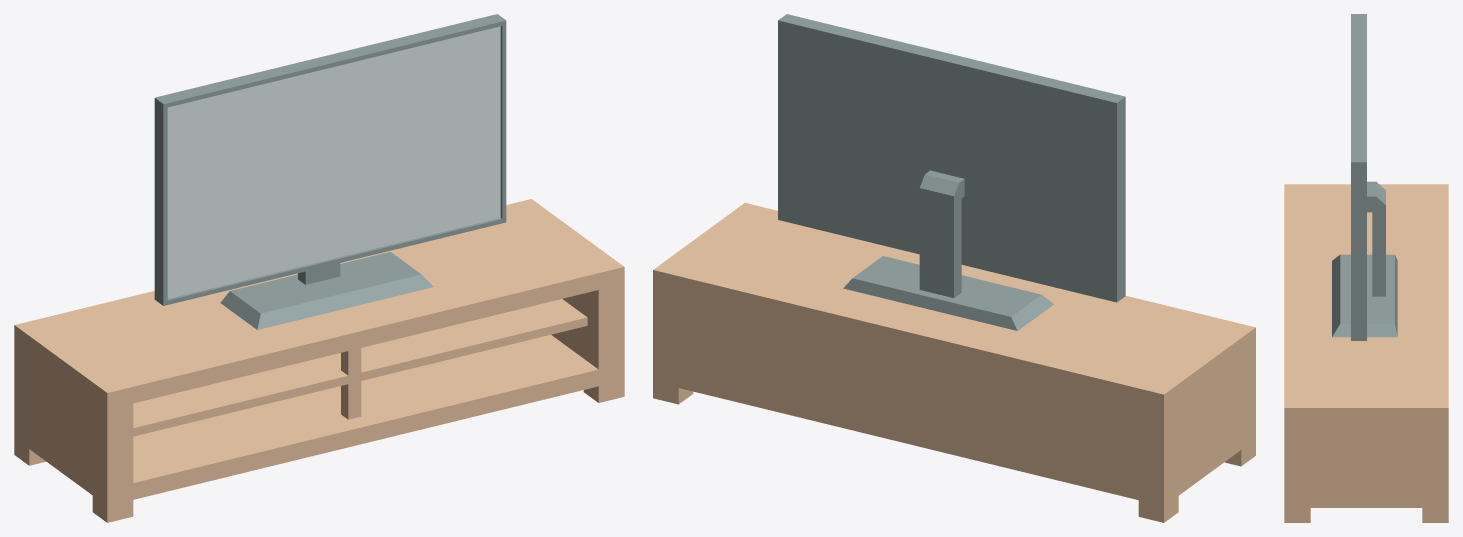
The picture shows the model from 3 angles, left to right: view 1: azimuth 30°, elevation 25°; view 2: azimuth 150°, elevation 25°; view 3: azimuth 270°, elevation 25°; orthographic projection. The views are drawn at different scales.
Parts seen in each view (by area): view 1: tv, televisionModern(Clone); view 2: tv, televisionModern(Clone); view 3: tv, televisionModern(Clone).
Part boxes in pixels (x1=…): tv: x1=14, y1=199, x2=624, y2=522; televisionModern(Clone): x1=154, y1=14, x2=506, y2=329; tv: x1=653, y1=203, x2=1255, y2=522; televisionModern(Clone): x1=778, y1=14, x2=1125, y2=330; tv: x1=1284, y1=184, x2=1448, y2=522; televisionModern(Clone): x1=1332, y1=14, x2=1397, y2=340.
Bounding box in the file's own units: 1.77 × 1.2 × 0.5503.
